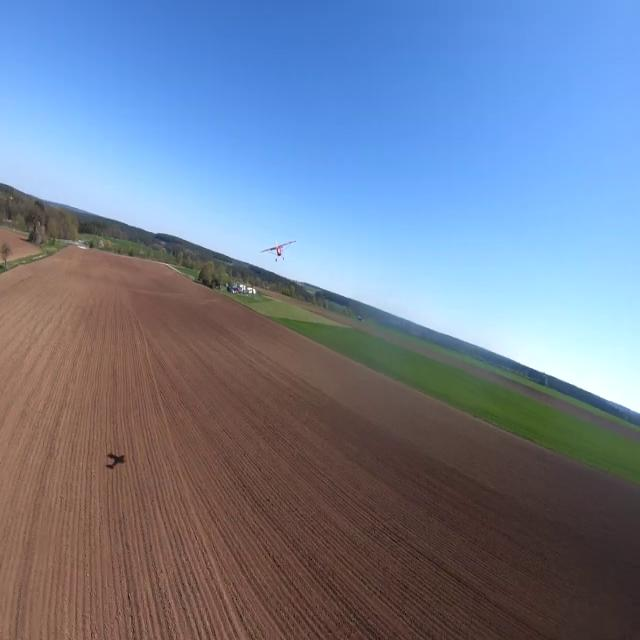iha: (260, 239, 298, 260)
